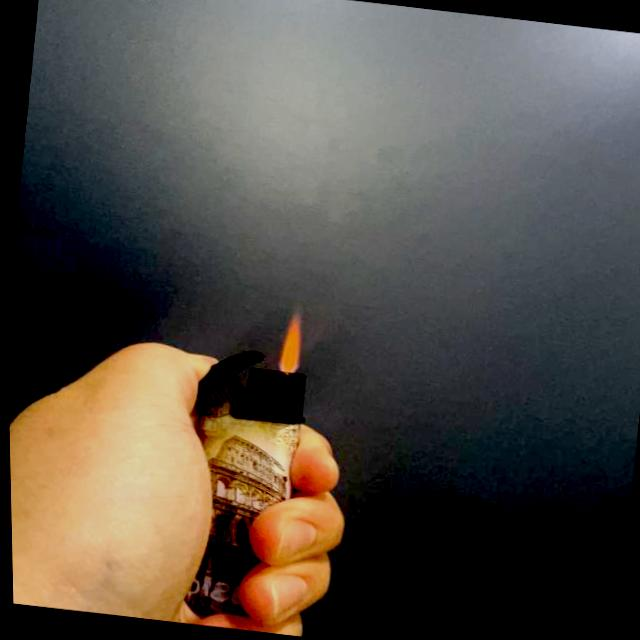Fire: (272, 312, 304, 373)
